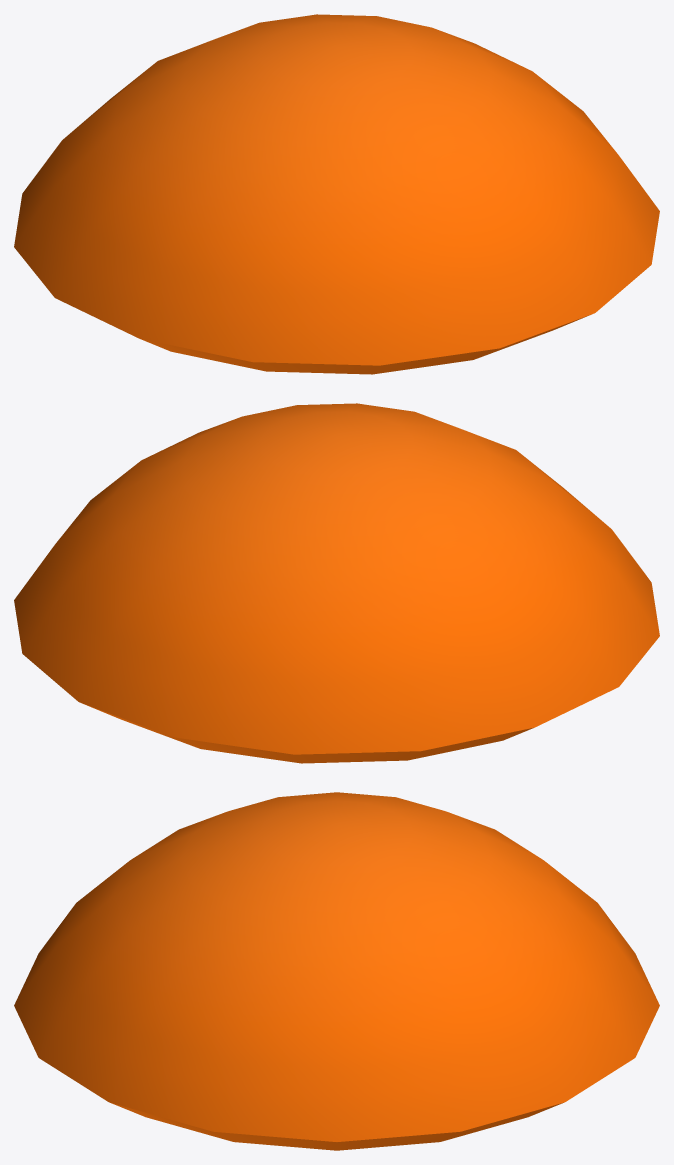
The model's file is Hair_15_C02.fbx.
3 renders of one model, top to bottom at view 1: azimuth 30°, elevation 25°; view 2: azimuth 150°, elevation 25°; view 3: azimuth 270°, elevation 25°, orthographic.
Visible parts, largest first — view 1: Hair_15_C02; view 2: Hair_15_C02; view 3: Hair_15_C02.
Part boxes in pixels (<box>): Hair_15_C02: <box>14,14,659,374</box>; Hair_15_C02: <box>14,403,659,763</box>; Hair_15_C02: <box>14,792,659,1150</box>.
Bounding box in the file's own units: 105 × 37.82 × 105.
